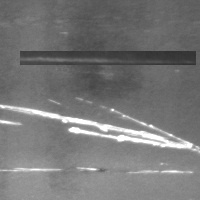scratches: (1, 101, 200, 152), (1, 163, 194, 177), (20, 51, 196, 65)
